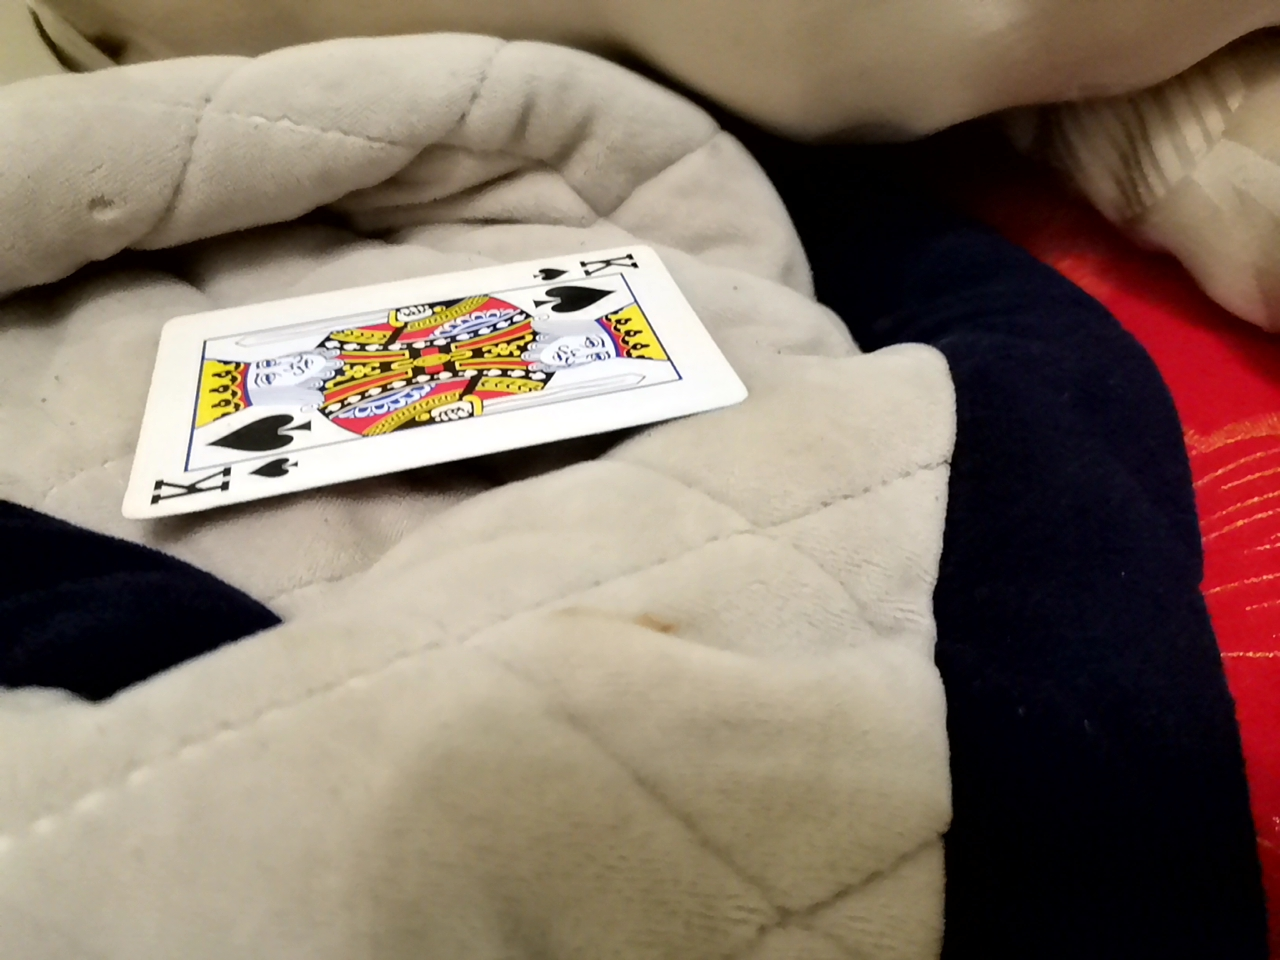ht k: (91, 225, 734, 515)
